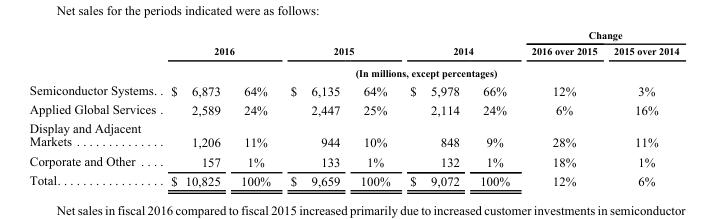table: (28, 28, 678, 187)
table column: (28, 28, 166, 187), (519, 28, 604, 187), (604, 28, 678, 187), (279, 28, 349, 187), (399, 28, 469, 187), (166, 28, 229, 187), (229, 28, 279, 187), (349, 28, 399, 187), (469, 28, 519, 187)
table column header: (28, 28, 678, 80)
table row: (28, 119, 678, 151), (28, 99, 678, 119), (28, 42, 678, 61), (28, 61, 678, 80), (28, 80, 678, 99), (28, 151, 678, 170), (28, 170, 678, 187), (28, 28, 678, 42)
table spanning cell: (166, 61, 678, 80), (279, 28, 399, 61), (399, 28, 519, 61), (166, 28, 279, 61), (519, 28, 678, 42)
